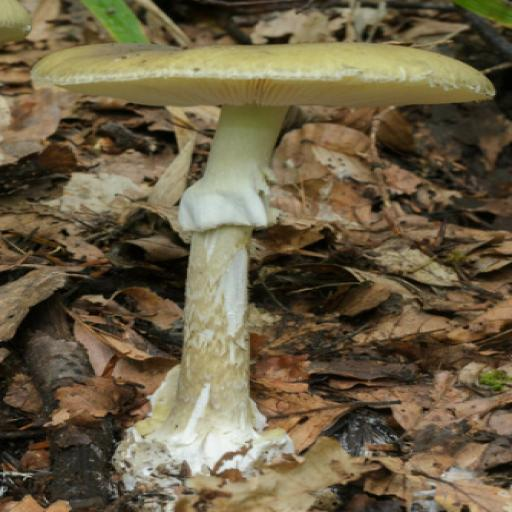Death Cap: (37, 45, 473, 488)
